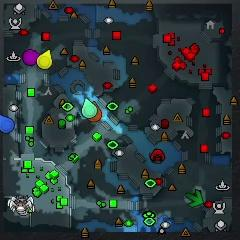p1: (0, 114, 14, 134)
p2: (82, 98, 97, 118)
p3: (23, 51, 41, 66)
p4: (37, 49, 52, 69)
p5: (87, 100, 103, 123)
x4: (185, 189, 203, 207)
